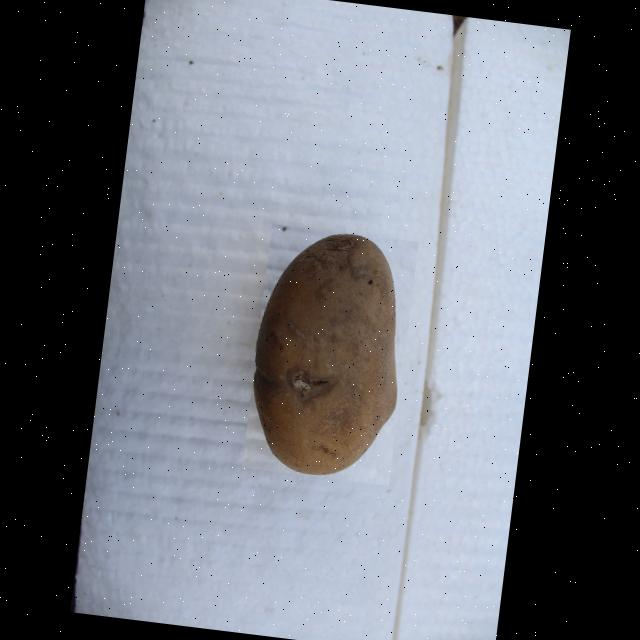Diseased-fungal potato: (242, 222, 418, 484)
